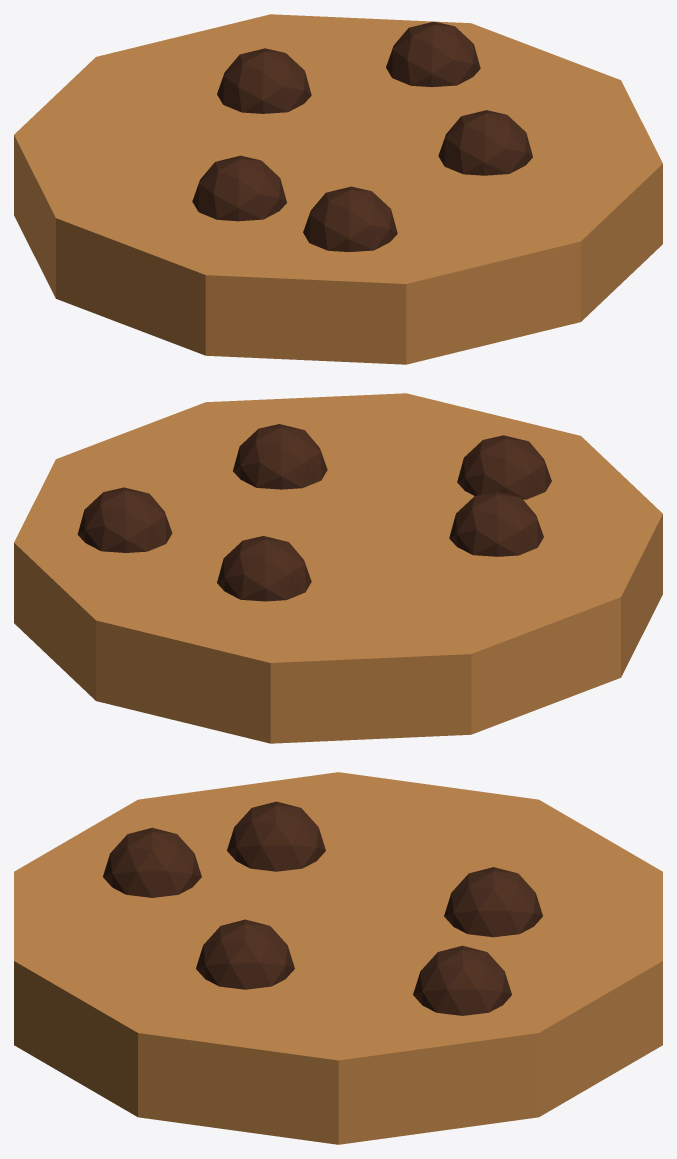
The model's file is cookie.glb.
The picture shows the model from 3 angles, top to bottom: view 1: azimuth 30°, elevation 25°; view 2: azimuth 150°, elevation 25°; view 3: azimuth 270°, elevation 25°; orthographic projection. The views are drawn at different scales.
Parts seen in each view (by area): view 1: cookie; view 2: cookie; view 3: cookie.
Boxes of the visible parts, x1,y1,x2,y2 form: cookie: (14,14,662,364); cookie: (14,393,662,743); cookie: (14,772,662,1144).
Bounding box in the file's own units: 0.22 × 0.046 × 0.2092.
